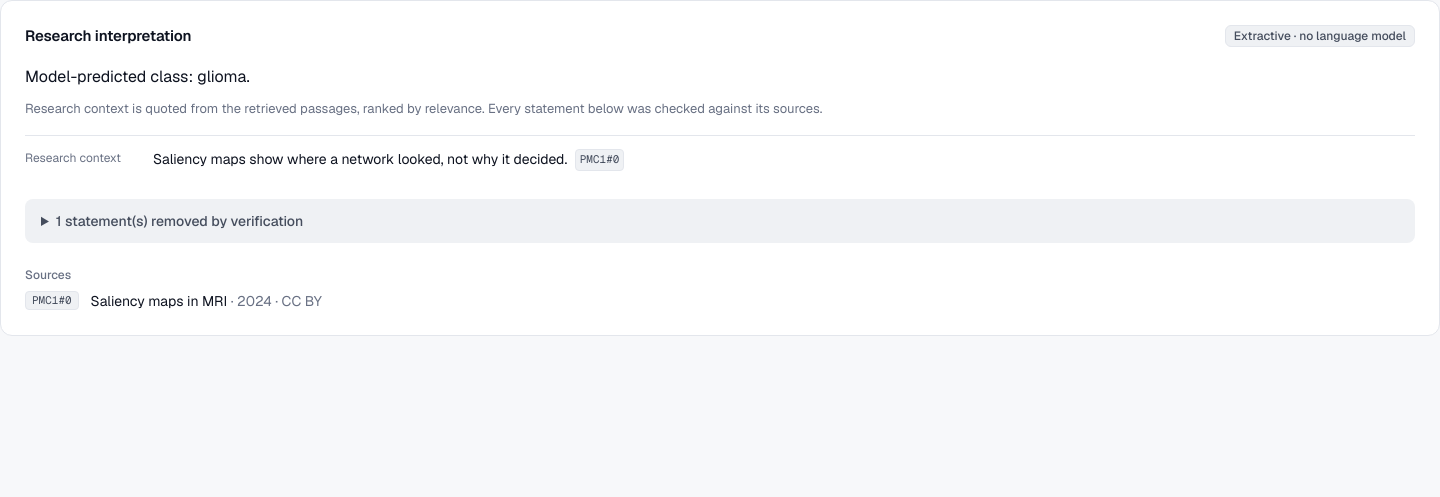
Test case: ResultView › opens the exact cited passage and lists removed statements with reasons
The image size is (1440, 497).
Click the button with aria-label "Show source passage PMC1#0". click: (600, 160)
box: [575,149,624,170]
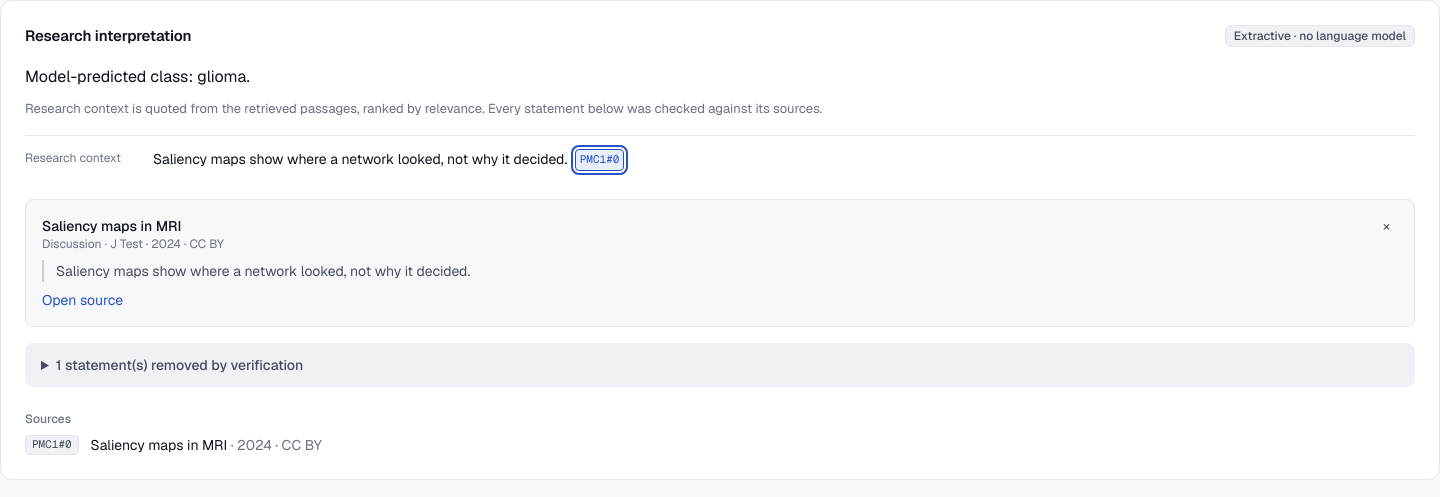
Expected: the heading "1 statement(s) removed by verification" is shown, [56,356,303,374]
Result: the text "not why it decided" is shown at [56,262,470,280]
Result: the text "Discussion · J Test · 2024 · CC BY" is shown at [42,236,224,252]
